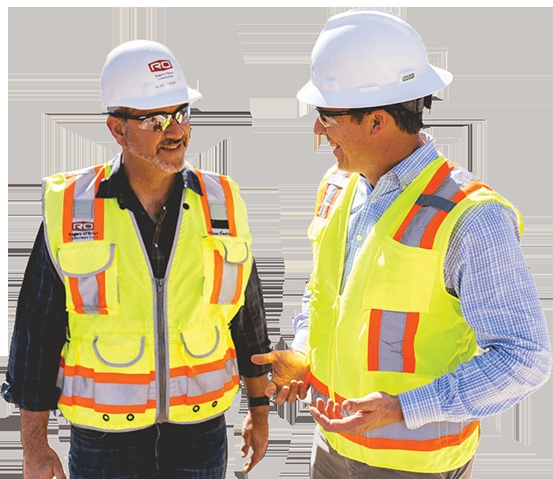helmet: (299, 13, 451, 112), (96, 40, 202, 111)
person with full safety: (284, 13, 504, 477), (23, 42, 257, 478)
safety vest: (310, 168, 486, 472), (46, 163, 244, 423)
